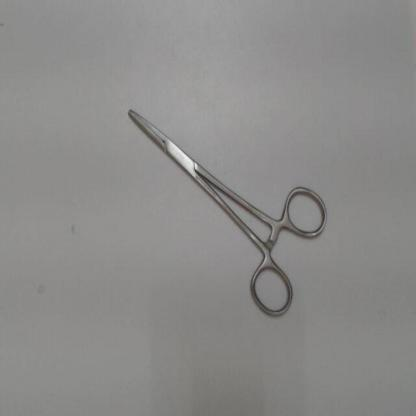Mayo Needle Holder: (110, 89, 333, 324)
